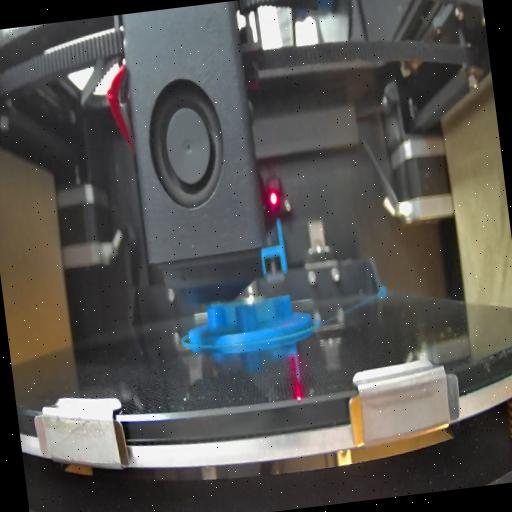stringing: (256, 294, 286, 324)
